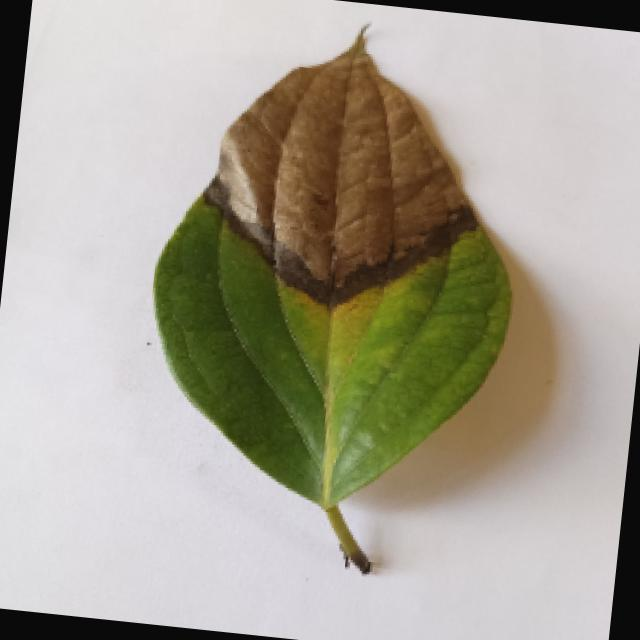footrot: (101, 0, 588, 581)
